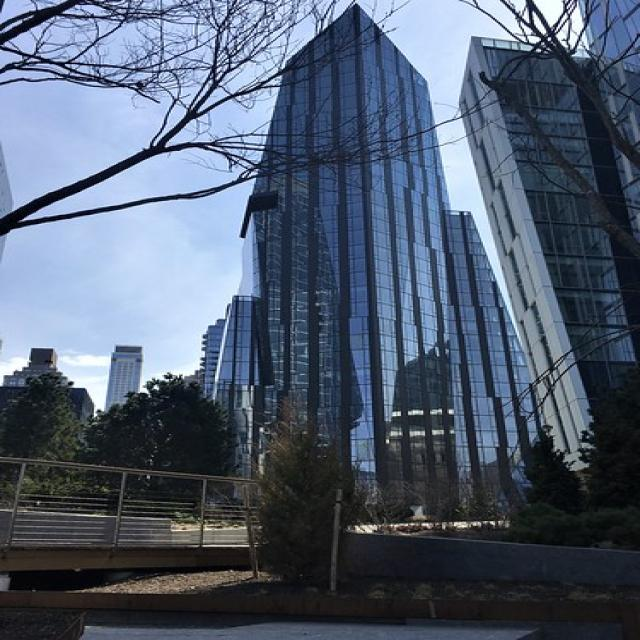building: (222, 3, 471, 540)
